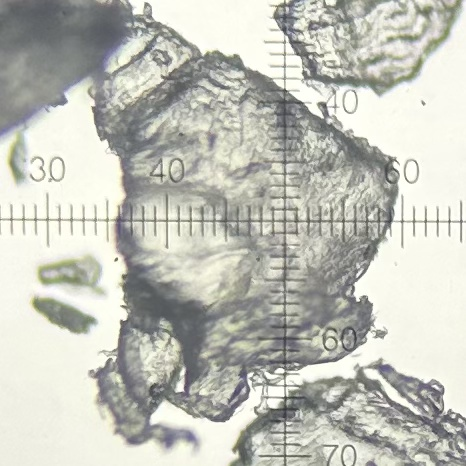microplastic: (88, 1, 401, 418), (230, 374, 465, 466), (1, 1, 135, 150), (271, 1, 466, 98), (118, 305, 184, 421), (90, 357, 152, 448), (362, 355, 447, 416), (36, 252, 109, 299), (28, 292, 101, 337), (142, 423, 203, 454), (7, 122, 33, 191)
